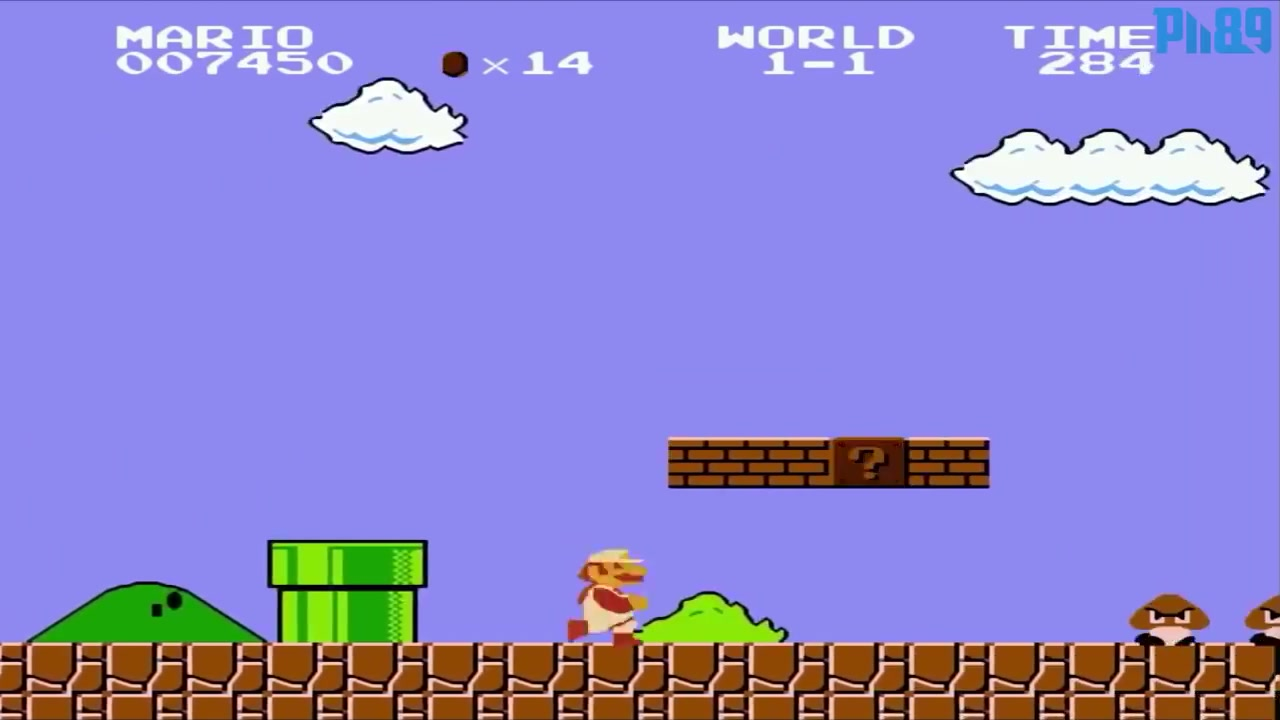mario: (548, 541, 664, 640)
